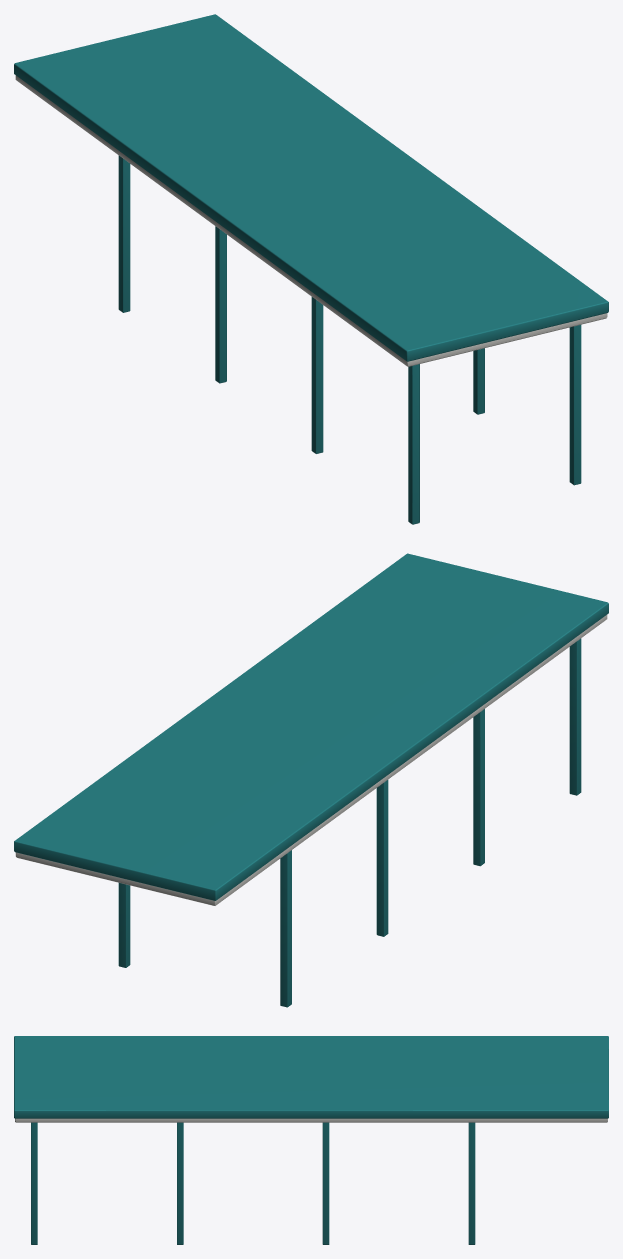
Rendered from WalkwayFL.fbx.
3 views of the same model, one above another, from view 1: azimuth 30°, elevation 25°; view 2: azimuth 150°, elevation 25°; view 3: azimuth 270°, elevation 25° (orthographic). The views are drawn at different scales.
Visible parts, largest first — view 1: WalkwayFL; view 2: WalkwayFL; view 3: WalkwayFL.
Boxes of the visible parts, x1,y1,x2,y2 form: WalkwayFL: (14,14,608,524); WalkwayFL: (14,553,608,1007); WalkwayFL: (14,1036,608,1244).
Bounding box in the file's own units: 3.64 × 3.2 × 12.24.
